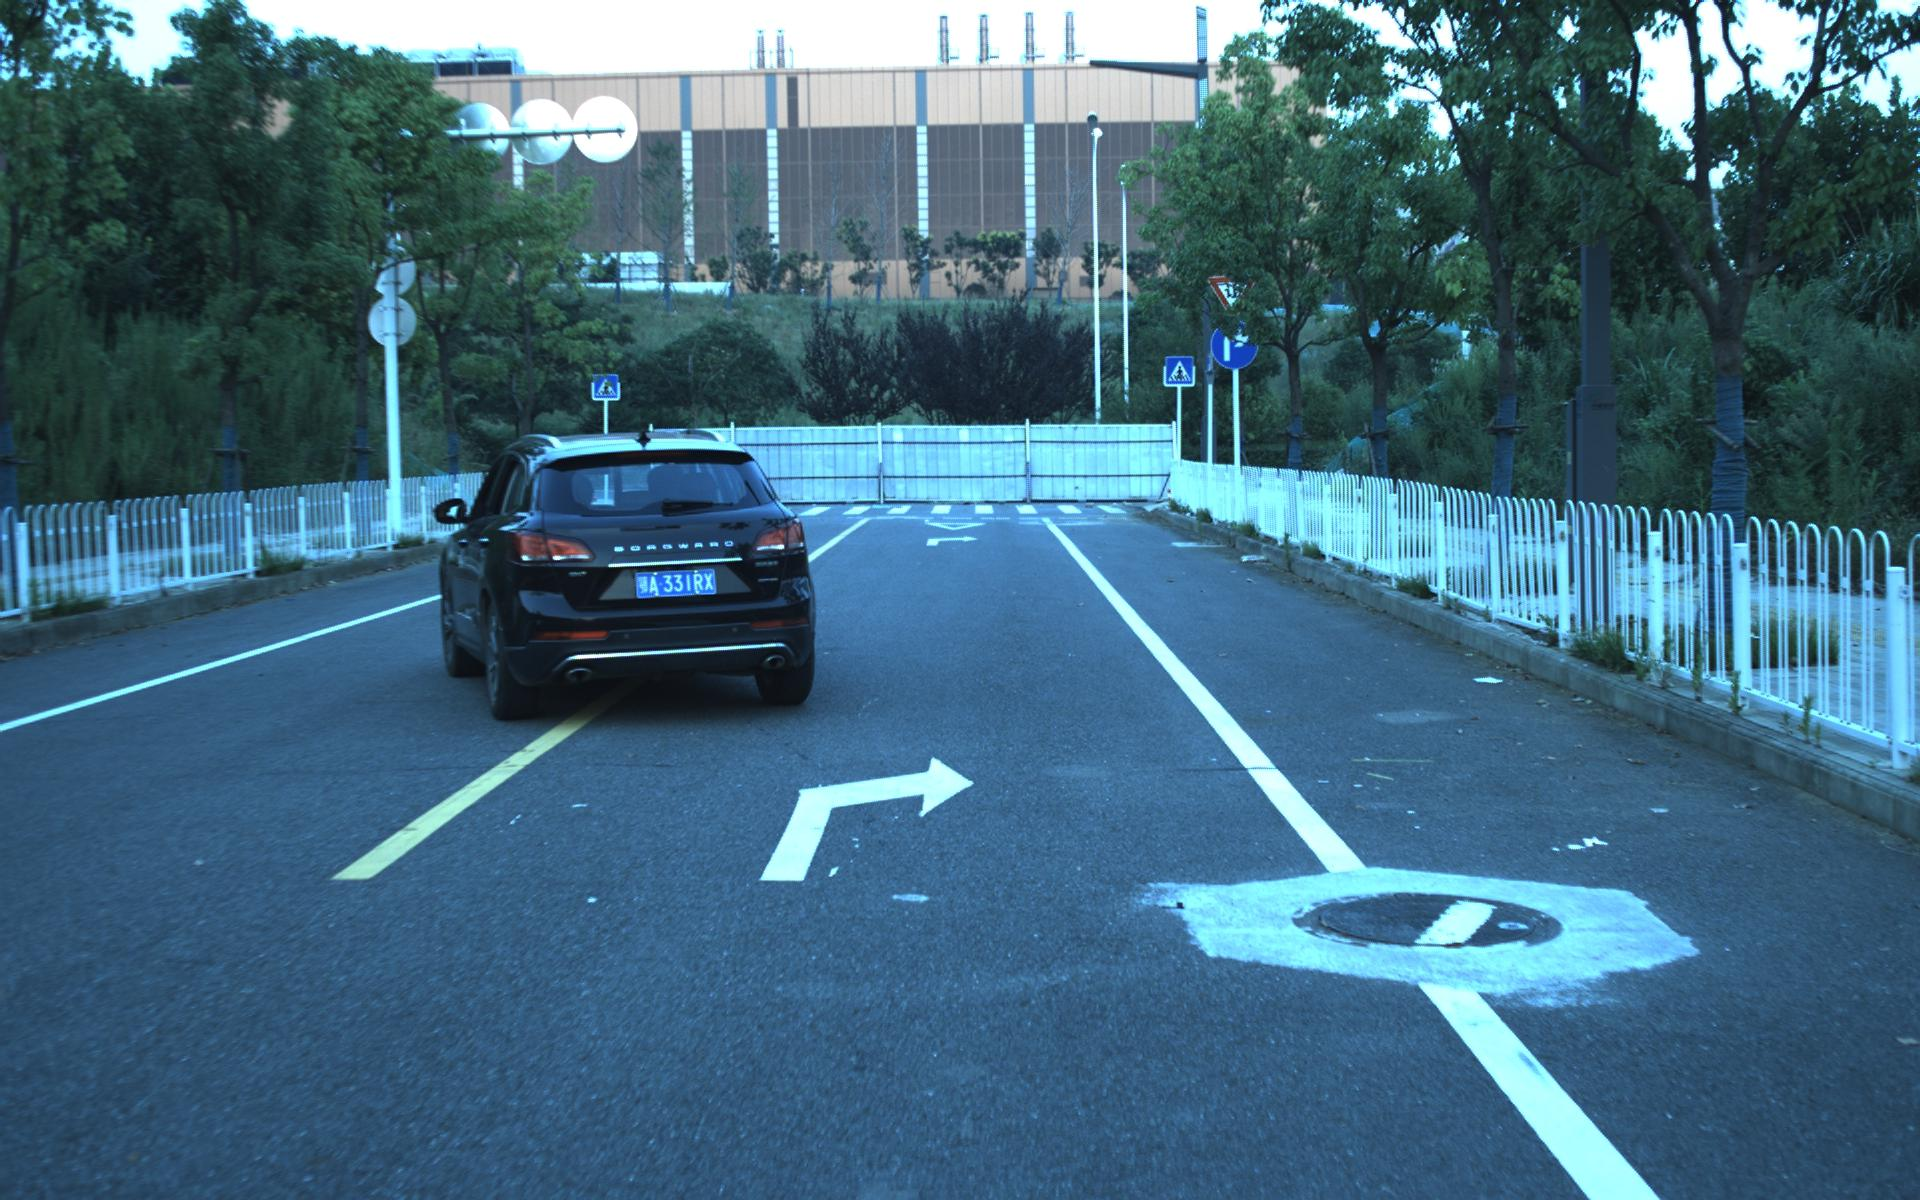Car: (429, 423, 825, 729)
